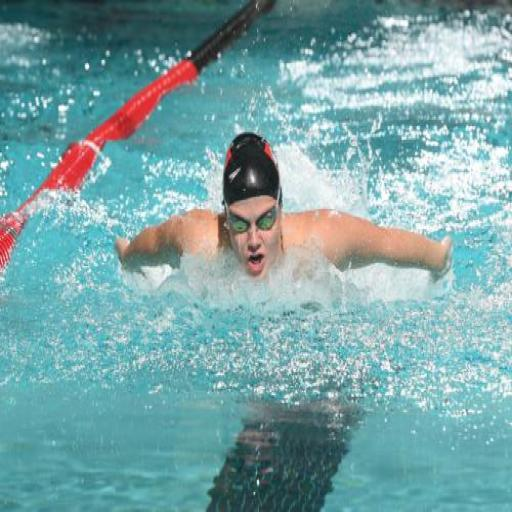swimming: (112, 129, 454, 298)
